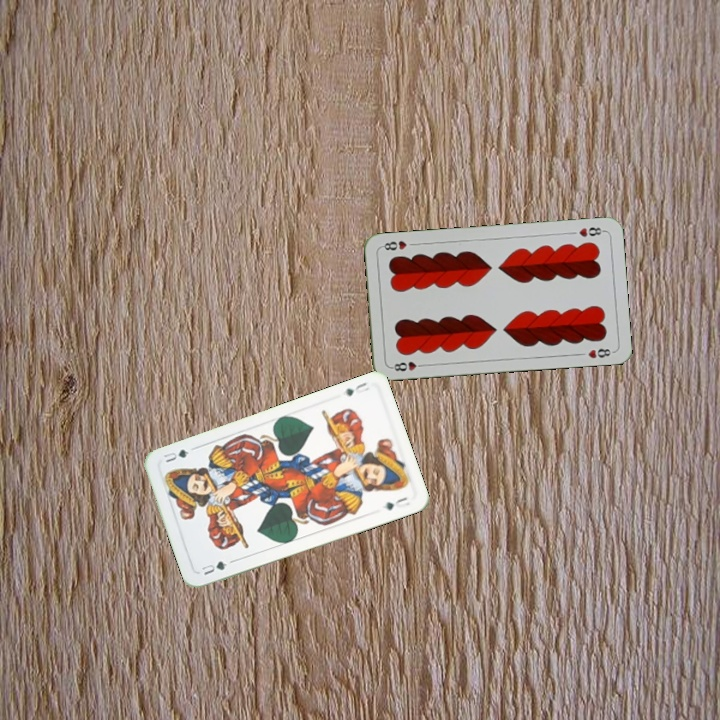GU: (197, 557, 230, 578), (341, 378, 372, 399)
H8: (387, 358, 428, 374), (575, 223, 607, 240)
